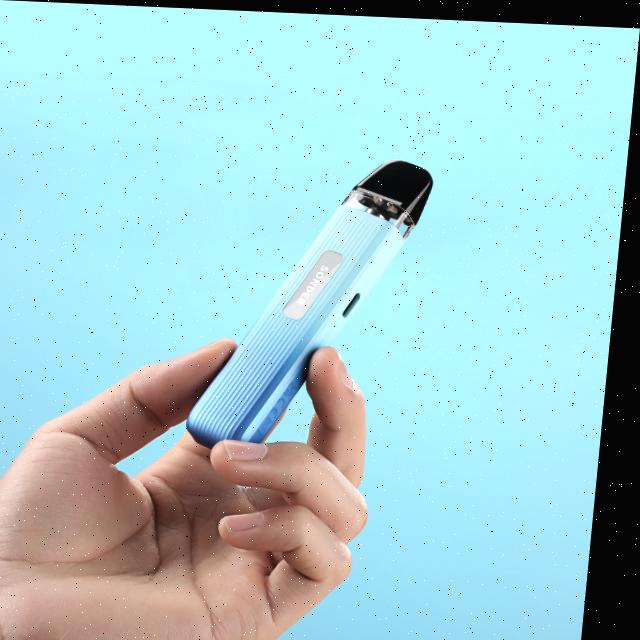vape: (191, 147, 437, 454)
